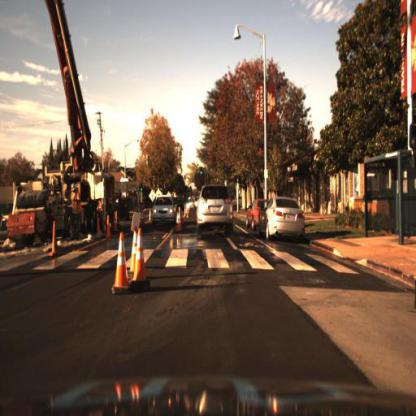car: (263, 196, 310, 247), (193, 182, 237, 235), (260, 194, 308, 240), (147, 189, 181, 231), (244, 198, 271, 234), (246, 195, 262, 235)
pedestrian: (67, 178, 85, 254), (69, 183, 86, 244)
trafficLight: (198, 163, 206, 182)
truck: (1, 1, 131, 251), (1, 159, 120, 260)
